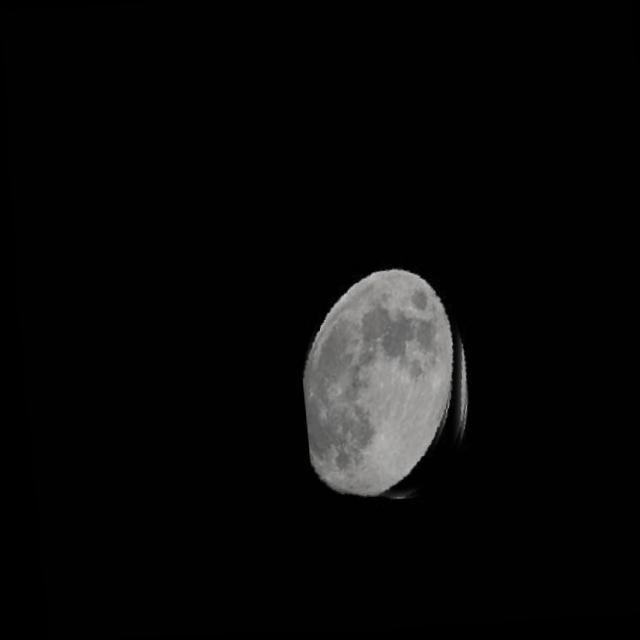moon: (288, 258, 482, 509)
